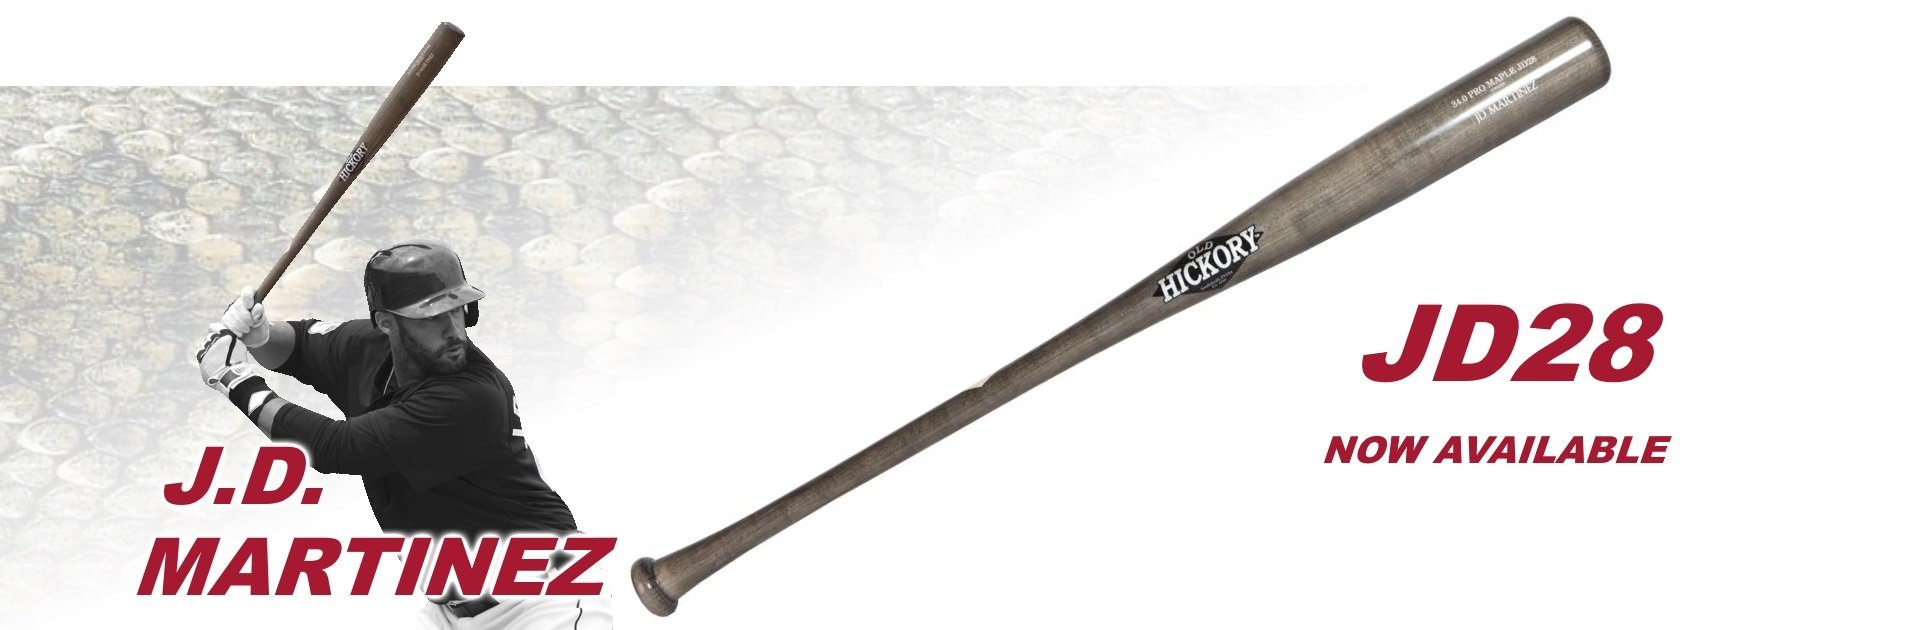bita: (624, 51, 1594, 594), (219, 17, 463, 337)
